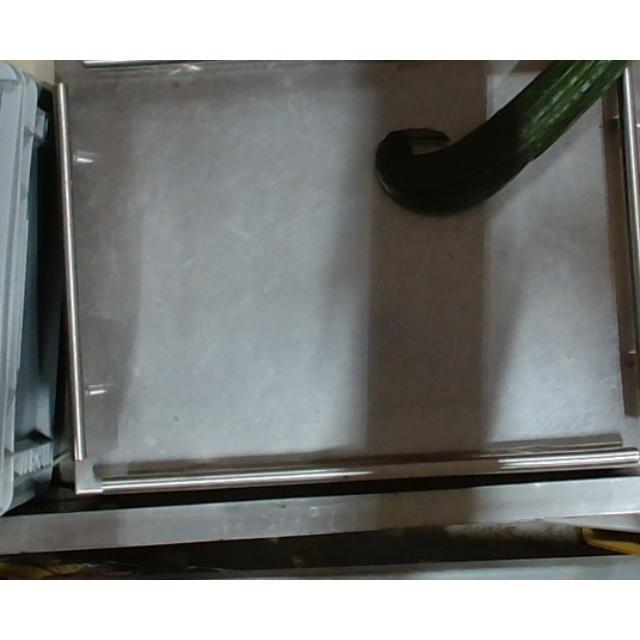cucumber: (380, 64, 630, 216)
